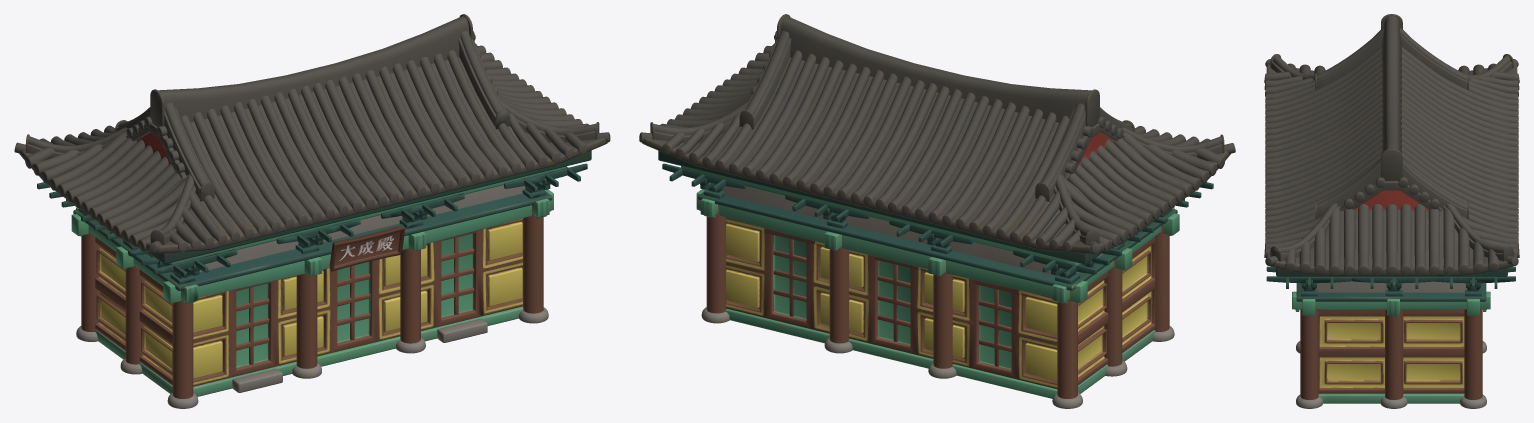
Rendered from yangcheon_hyanggyo.glb.
3 views of the same model, side by side, from view 1: azimuth 30°, elevation 25°; view 2: azimuth 150°, elevation 25°; view 3: azimuth 270°, elevation 25° (orthographic). The views are drawn at different scales.
Parts seen in each view (by area): view 1: SeoulEdition_25_6_LOW2; view 2: SeoulEdition_25_6_LOW2; view 3: SeoulEdition_25_6_LOW2.
Boxes of the visible parts, x1,y1,x2,y2 form: SeoulEdition_25_6_LOW2: [14, 14, 610, 408]; SeoulEdition_25_6_LOW2: [639, 14, 1235, 408]; SeoulEdition_25_6_LOW2: [1264, 14, 1519, 408].
Size of the model in its own units: 46.17 by 26.2 by 24.75.
1 material, 1 textured.
